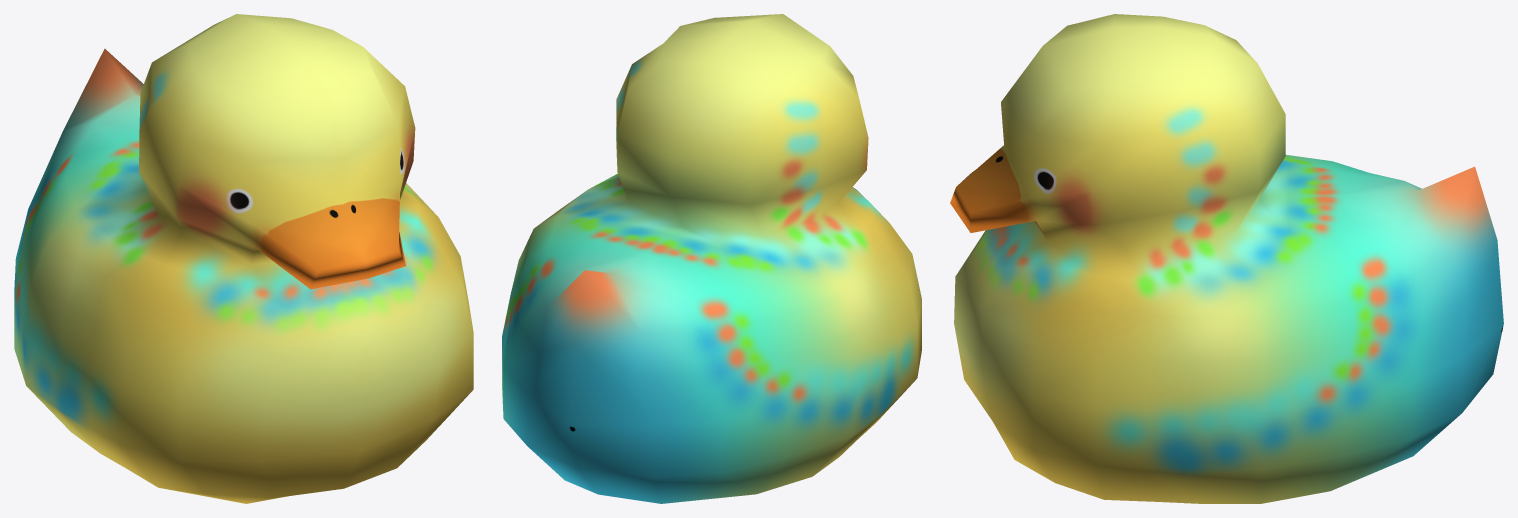
Rendered from MD_Ahiru.fbx.
3 views of the same model, side by side, from view 1: azimuth 30°, elevation 25°; view 2: azimuth 150°, elevation 25°; view 3: azimuth 270°, elevation 25° (orthographic). The views are drawn at different scales.
Visible parts, largest first — view 1: pCube1; view 2: pCube1; view 3: pCube1.
Boxes of the visible parts, <box> form: pCube1: <box>14,14,473,503</box>; pCube1: <box>502,14,921,503</box>; pCube1: <box>950,14,1503,503</box>.
Size of the model in its own units: 5.58 by 6.21 by 7.28.
